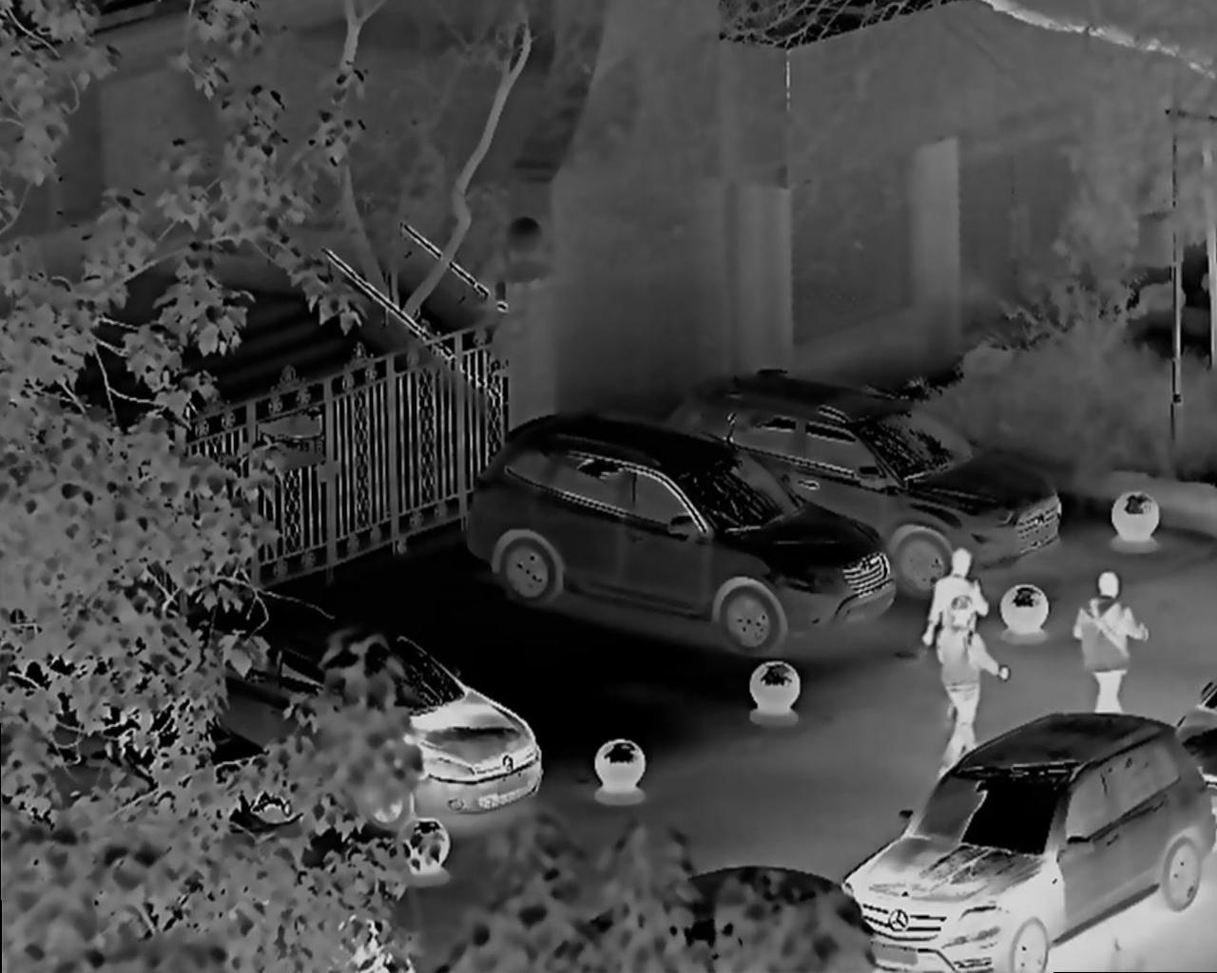person: (933, 594, 1013, 780), (1069, 568, 1151, 724), (922, 545, 990, 678)
